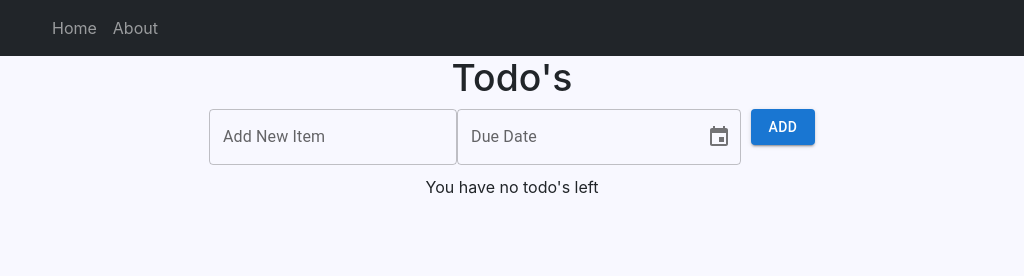
Test: test that App component can be deleted thru checkbox
Type "test task" into the field labelled "Add New Item". click: (333, 137)
box: [209,109,457,165]
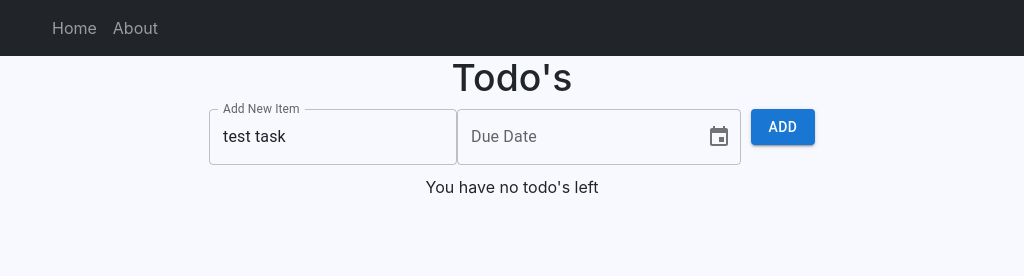
Type "06/25/2022" into the field with placeholder "mm/dd/yyyy". click: (574, 137)
box: [457,109,691,165]
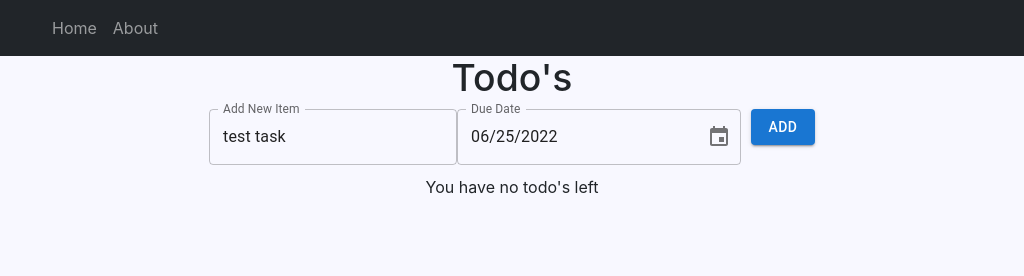
Click the button "Add". click: (783, 127)
box: [751,109,815,145]
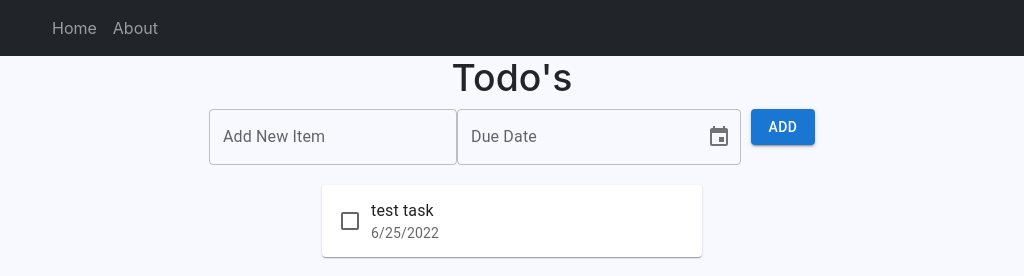
Click the checkbox. click: (350, 221)
box: [338,209,362,233]
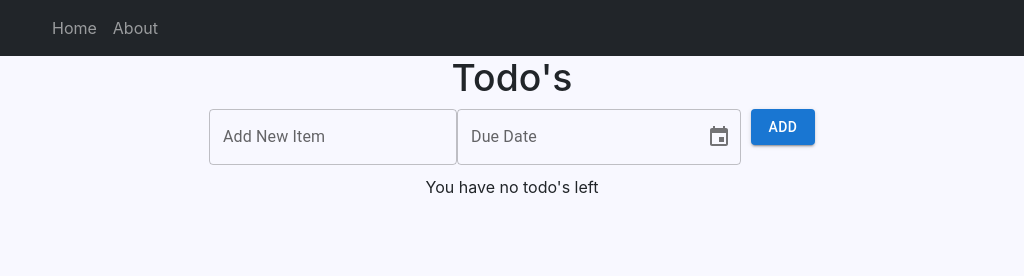
Expected: the text "You have no todo's left" is shown, [426,177,598,197]
